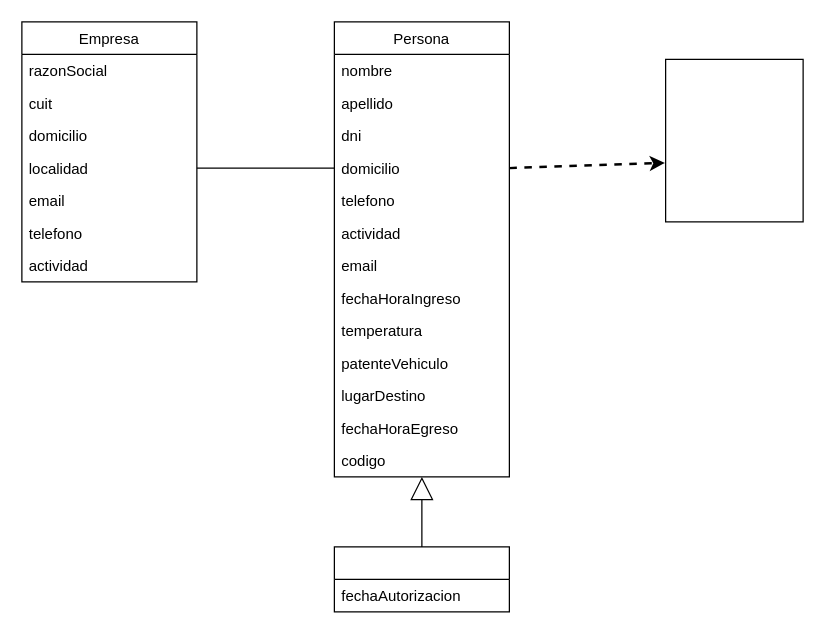
The diagram is 825 pixels wide and 638 high, and some of its shapes have lost their labels. Each missing label, with the box of its shape:
empleado: (333, 546, 509, 612)
«enum» Actividad educacion salud campo seguridad no_esencial desconocido: (664, 58, 803, 222)
